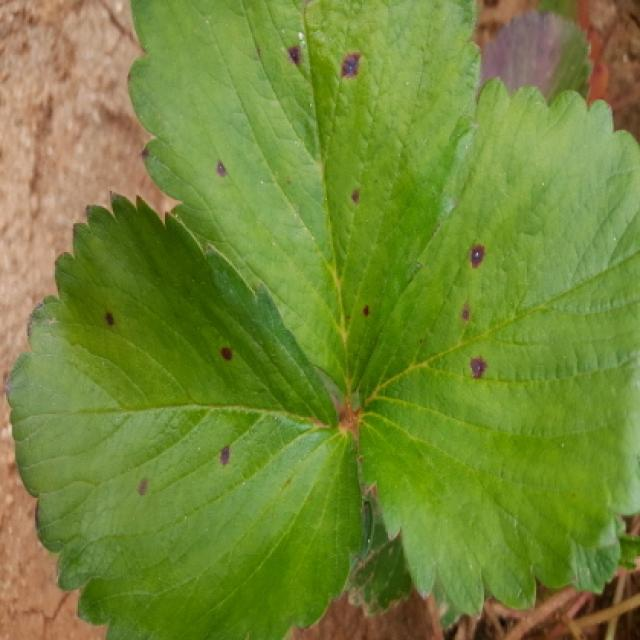Leaf Spot: (4, 191, 375, 638), (352, 76, 640, 621), (126, 0, 484, 403)
